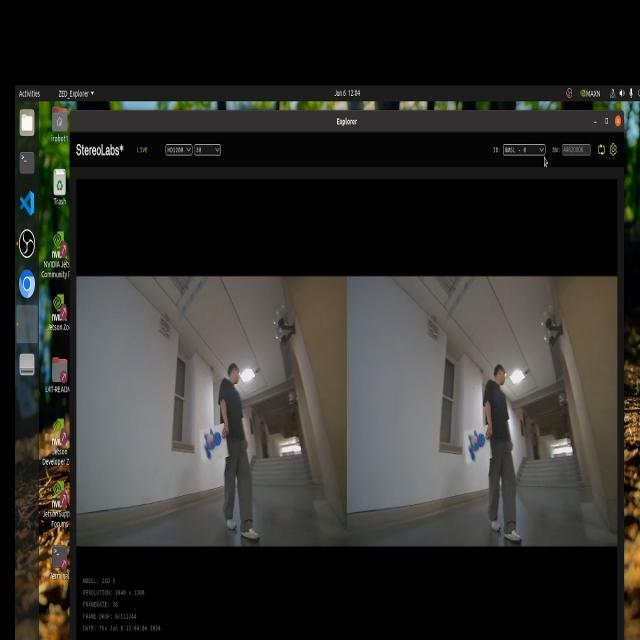blue: (464, 427, 498, 468), (207, 420, 230, 457)
